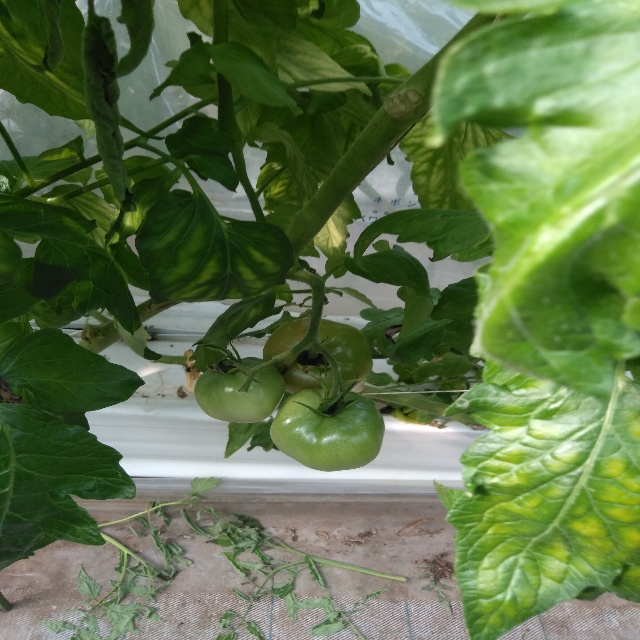b_green: (269, 388, 385, 472), (263, 318, 372, 394), (194, 357, 287, 423)
